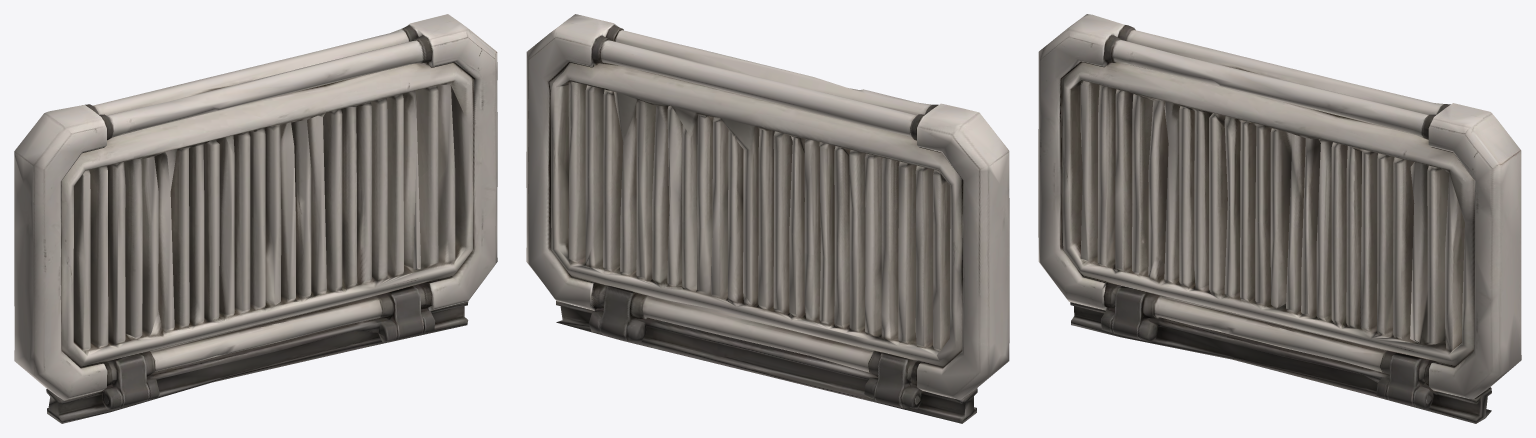
File: radiator.glb
The picture shows the model from 3 angles, left to right: view 1: azimuth 30°, elevation 25°; view 2: azimuth 150°, elevation 25°; view 3: azimuth 330°, elevation 25°; orthographic projection.
Visible parts, largest first — view 1: tripo_node_4212e68e-625b-463b-a76f-a7d4a9ce3f8b; view 2: tripo_node_4212e68e-625b-463b-a76f-a7d4a9ce3f8b; view 3: tripo_node_4212e68e-625b-463b-a76f-a7d4a9ce3f8b.
Part boxes in pixels (bbox=[...]): tripo_node_4212e68e-625b-463b-a76f-a7d4a9ce3f8b: bbox=[14, 14, 497, 423]; tripo_node_4212e68e-625b-463b-a76f-a7d4a9ce3f8b: bbox=[526, 14, 1009, 423]; tripo_node_4212e68e-625b-463b-a76f-a7d4a9ce3f8b: bbox=[1038, 14, 1521, 423].
Bounding box in the file's own units: 10 × 6.17 × 1.38.
Materials: 1 (1 with a texture image).
